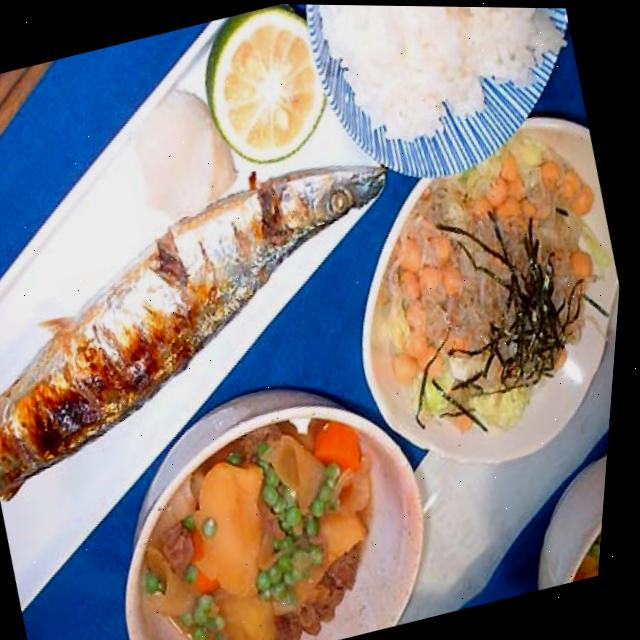熟制海鲜: (0, 145, 465, 543)
